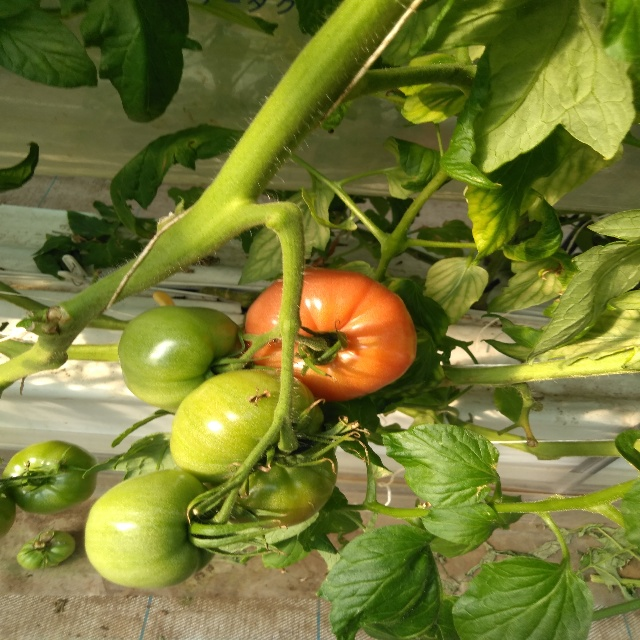b_green: (170, 367, 337, 530), (84, 469, 224, 591), (117, 306, 253, 414), (1, 439, 98, 515), (16, 529, 76, 570)
b_half_ripened: (244, 267, 417, 402)
